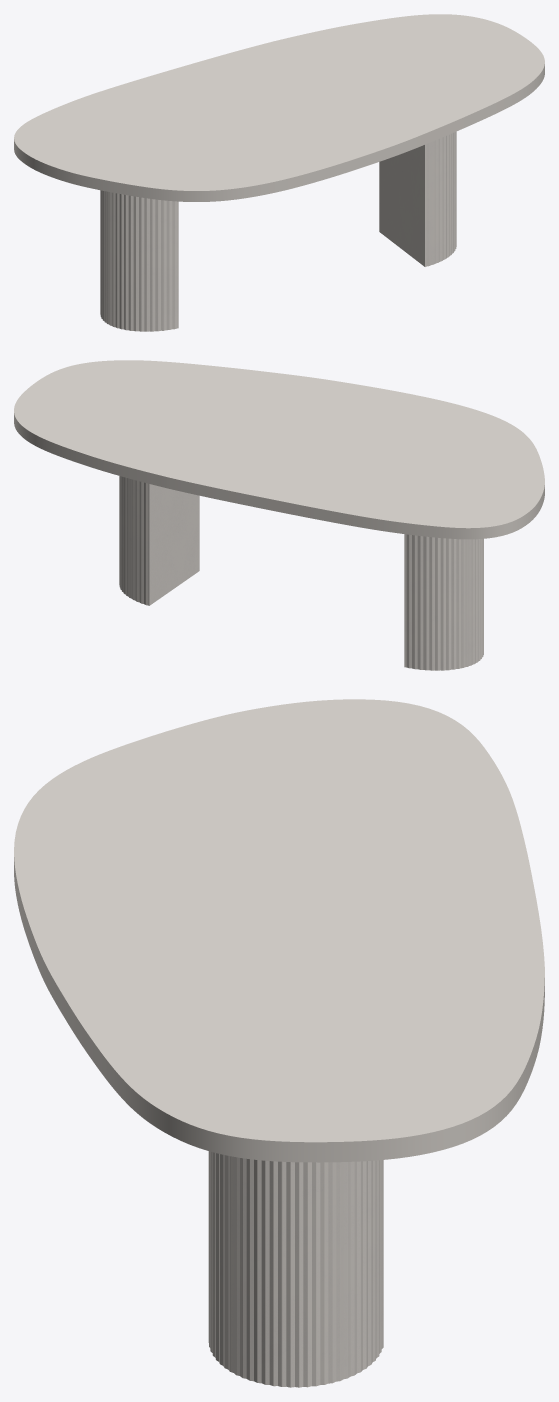
Rendered from pearlwhite_leaf2_standard_flute.glb.
3 renders of one model, top to bottom at view 1: azimuth 30°, elevation 25°; view 2: azimuth 150°, elevation 25°; view 3: azimuth 270°, elevation 25°, orthographic. The views are drawn at different scales.
Visible parts, largest first — view 1: standard_leaf2, flute; view 2: standard_leaf2, flute; view 3: standard_leaf2, flute.
Boxes of the visible parts, <box> form: standard_leaf2: <box>14,14,544,201</box>; flute: <box>100,131,456,331</box>; standard_leaf2: <box>14,360,544,539</box>; flute: <box>119,476,483,670</box>; standard_leaf2: <box>14,699,544,1162</box>; flute: <box>208,1151,383,1387</box>.
Size of the model in its own units: 7.5 by 2.52 by 3.8.
1 material, 1 textured.
